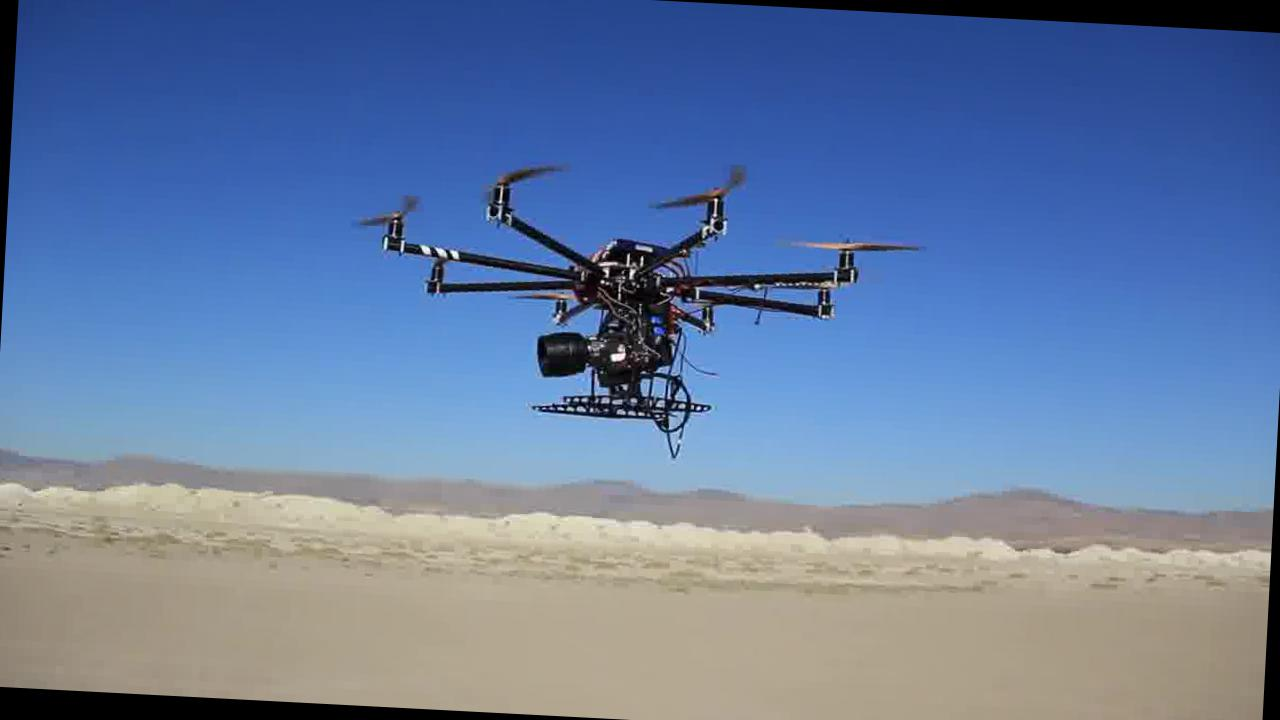drone: (358, 143, 884, 445)
